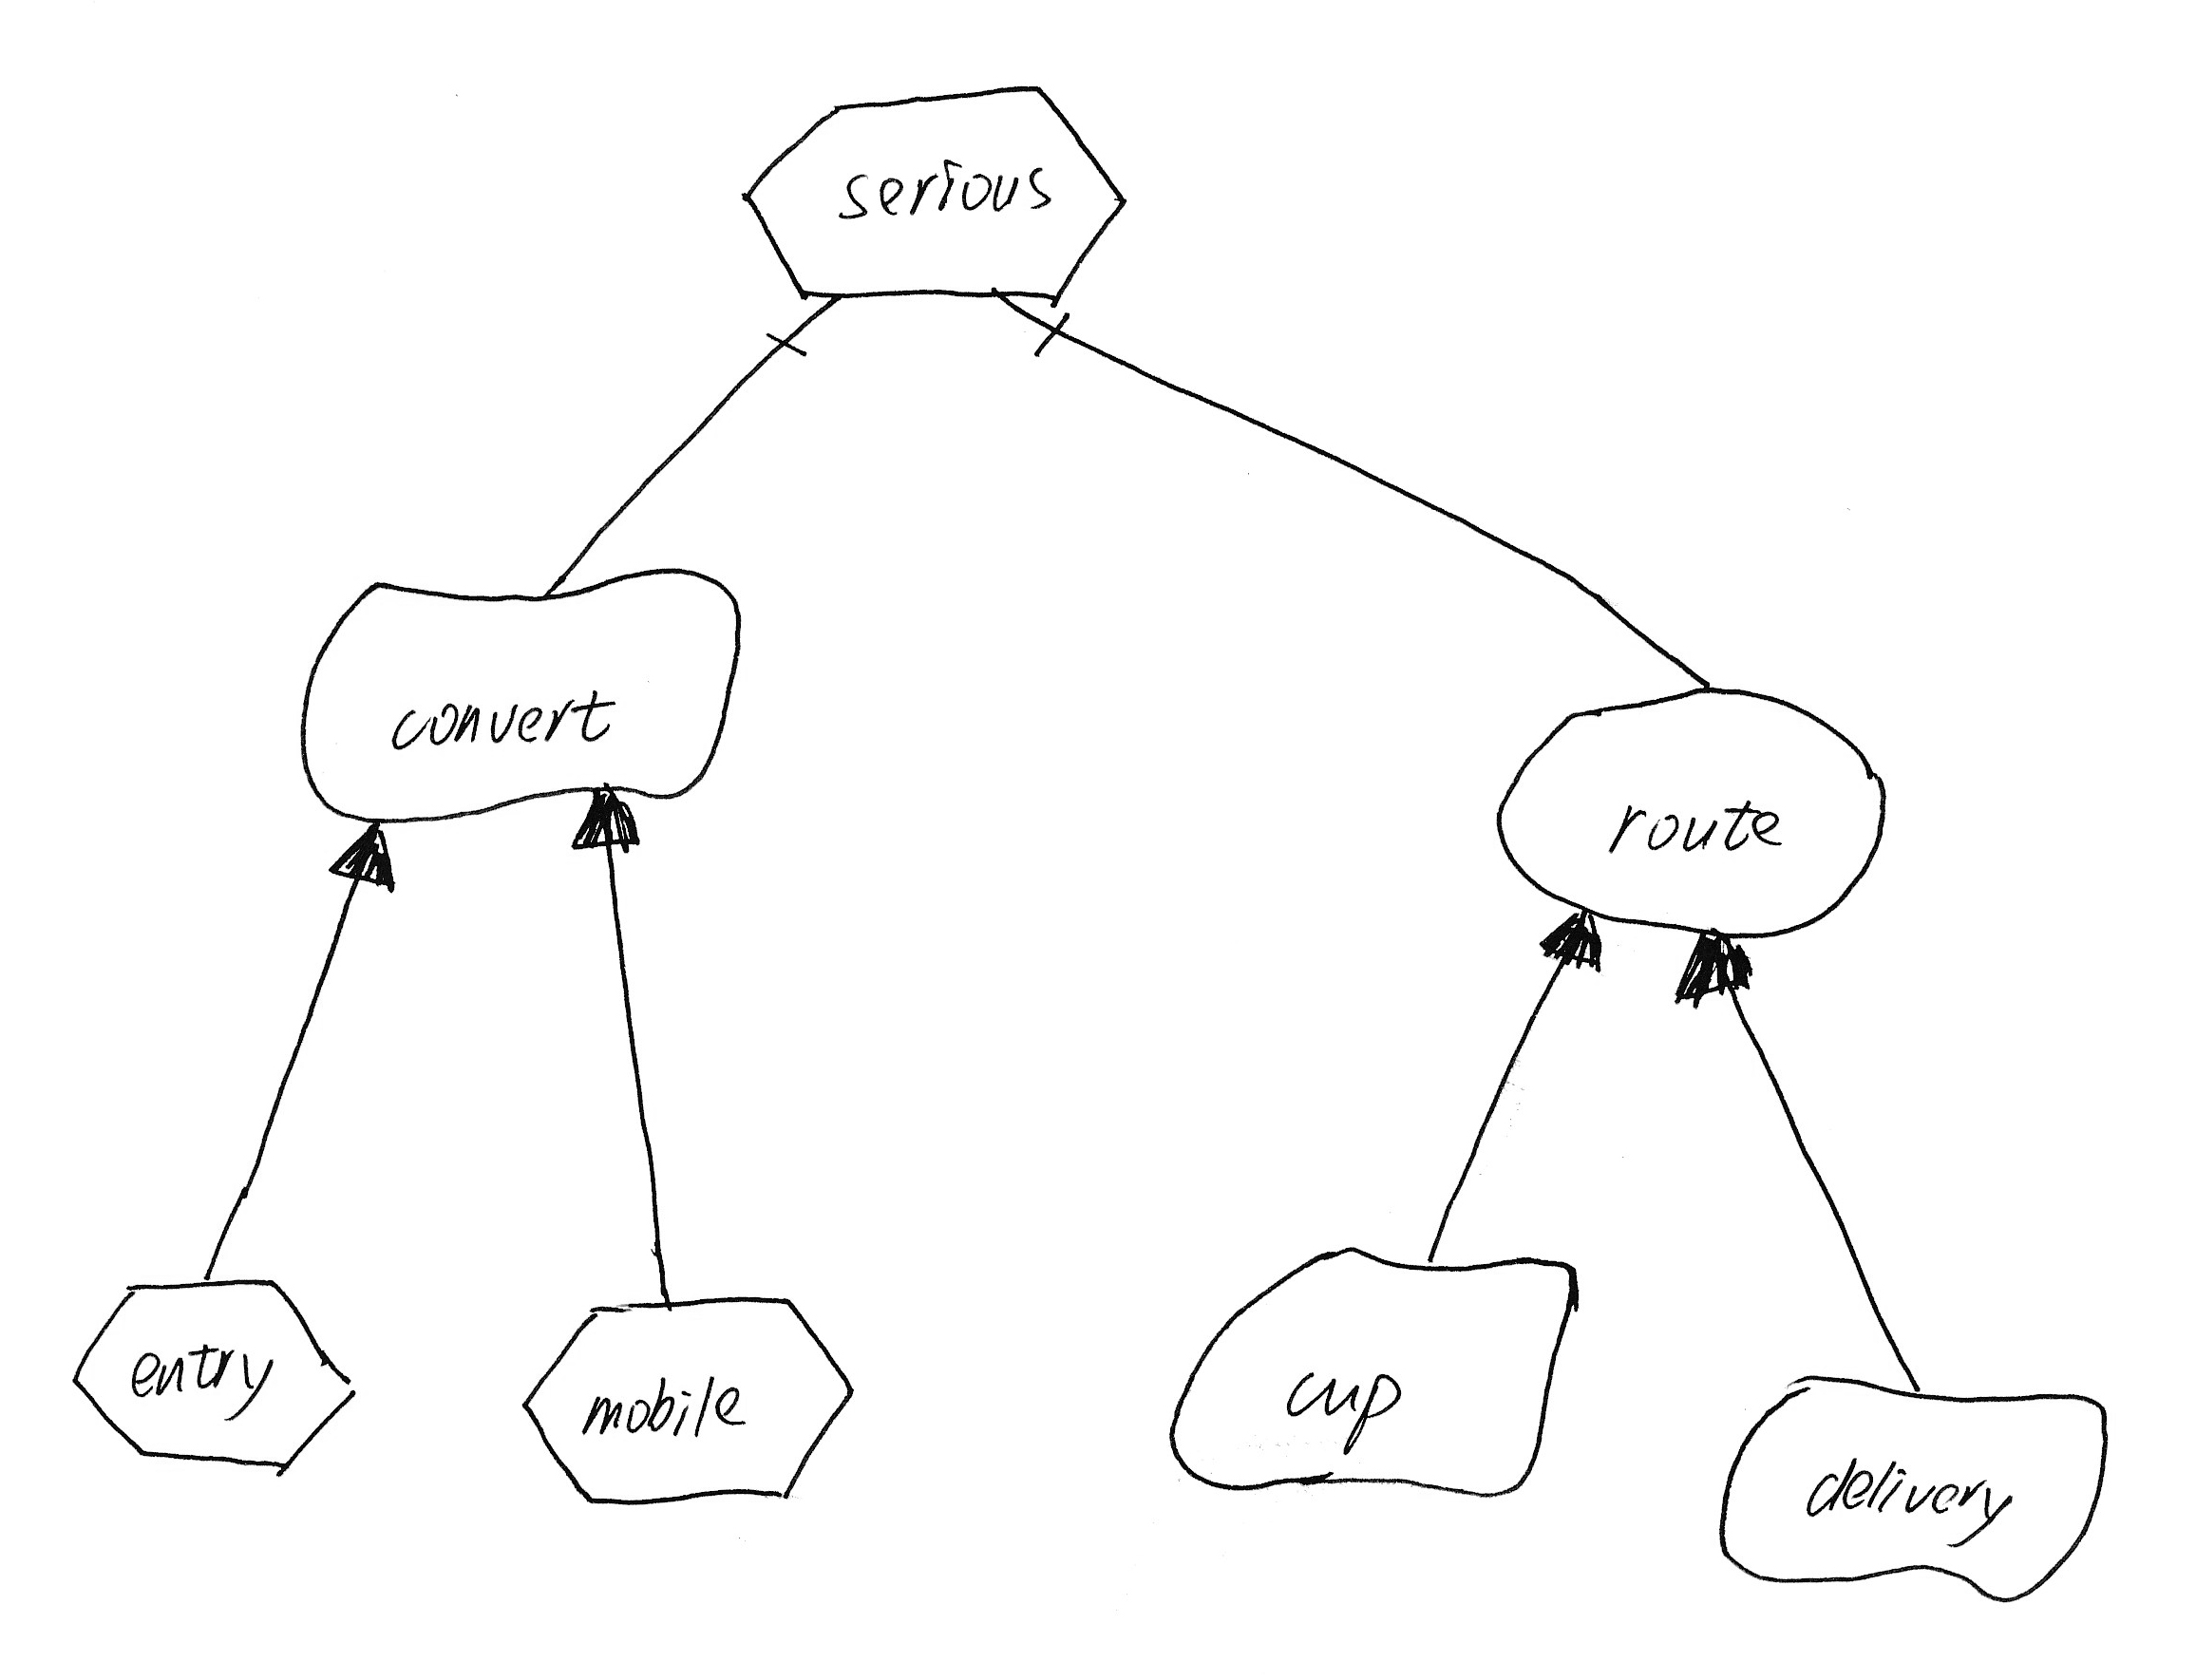and: (974, 277, 1091, 372), (750, 279, 853, 369)
goal: (1481, 667, 1906, 960)
or: (1659, 916, 1769, 1022), (318, 806, 415, 914), (560, 775, 658, 874), (1529, 895, 1617, 992)
quality: (275, 558, 770, 852), (1147, 1230, 1605, 1516), (1700, 1355, 2131, 1616)
task: (729, 65, 1142, 325), (500, 1279, 865, 1521), (55, 1262, 380, 1491)
